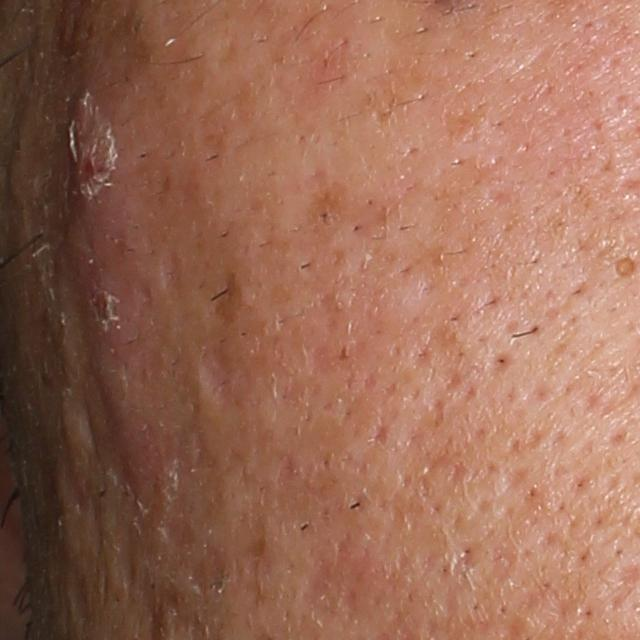atrophic_scar: (195, 339, 264, 410), (159, 251, 191, 300), (449, 540, 484, 577)
nodule: (50, 61, 184, 529)
